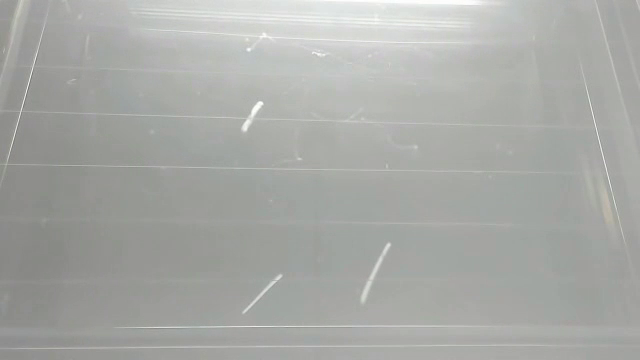alpha: (357, 239, 396, 309), (237, 271, 286, 317), (239, 99, 268, 136)
